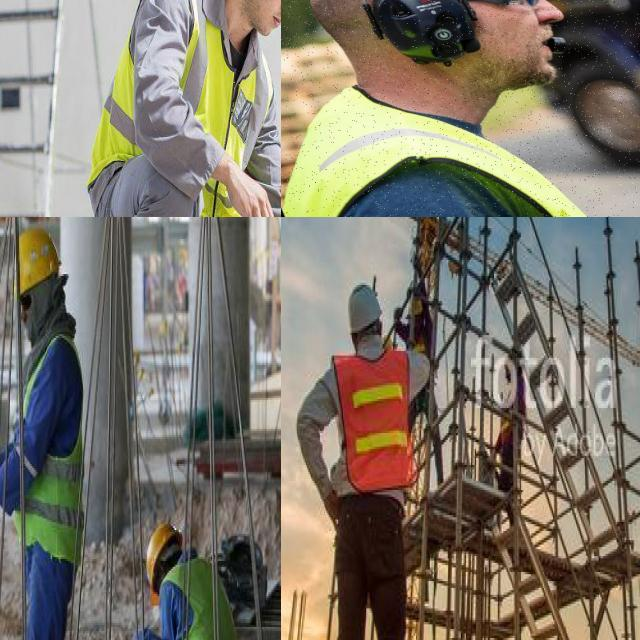No_Ear-Protection: (371, 0, 479, 66)
face_nomask: (464, 1, 565, 89), (247, 0, 281, 40)
hand_noglove: (227, 146, 278, 217)
head_helmet: (11, 228, 65, 294), (142, 522, 182, 606), (343, 285, 383, 331)
person: (103, 0, 281, 217), (335, 282, 422, 640), (6, 235, 82, 640), (144, 504, 241, 640)
vest: (133, 0, 272, 217), (26, 336, 85, 557), (334, 360, 419, 495), (173, 559, 239, 640)
